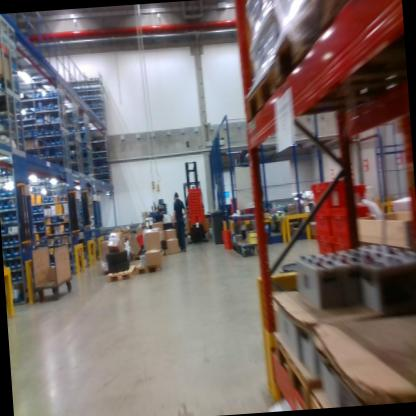forklift: (176, 149, 214, 247)
pallet: (242, 50, 402, 133), (267, 0, 405, 95), (268, 325, 337, 402), (134, 255, 164, 282), (106, 263, 139, 287), (99, 257, 113, 274)
small_load_carrier: (330, 204, 382, 245), (306, 173, 353, 213), (335, 181, 372, 213), (310, 204, 335, 236), (314, 232, 337, 260), (222, 228, 237, 253), (137, 229, 146, 247), (189, 212, 198, 226), (197, 212, 206, 225)
